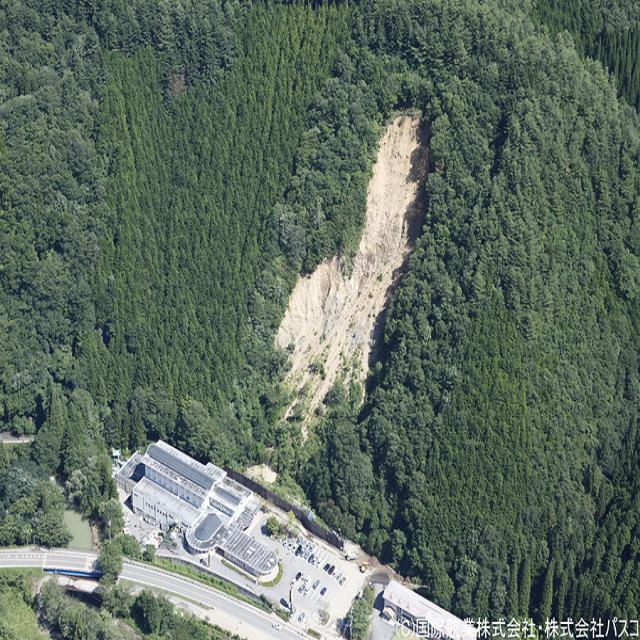Debris-flow: (275, 116, 429, 432)
